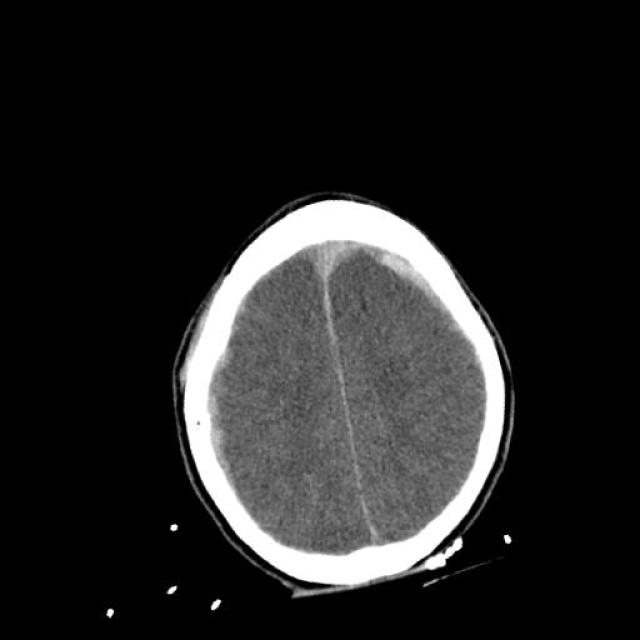Subdural: (285, 184, 485, 356), (144, 317, 284, 524)
